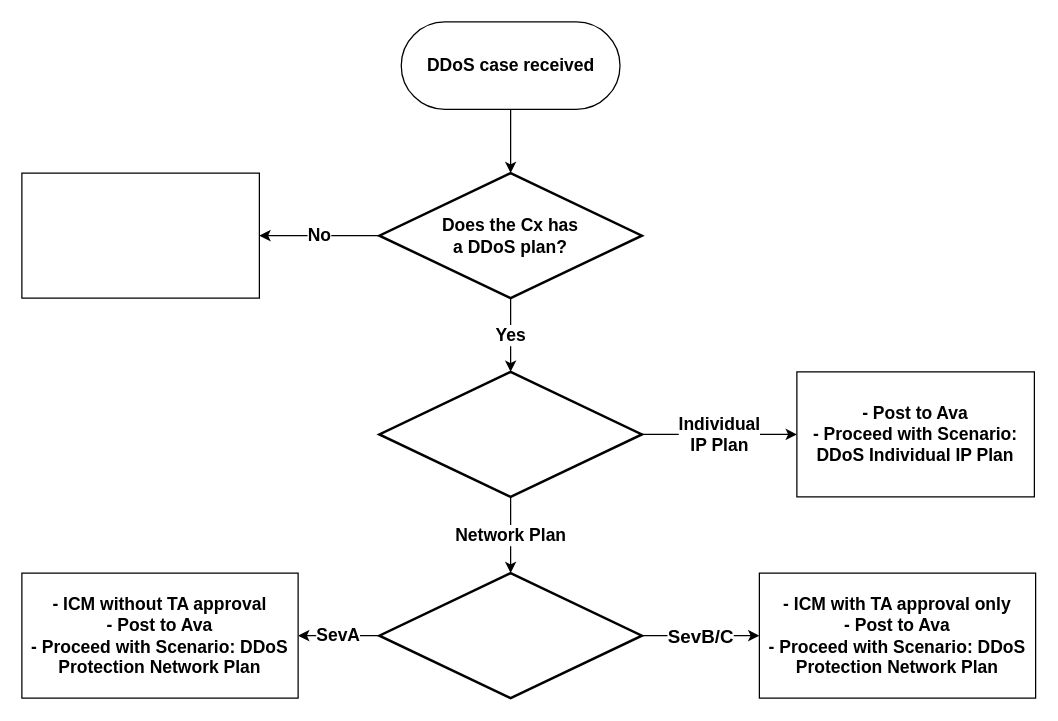
Image size: 1058x721. Some labels were removed from this diagram. Each missing label, with the box of its shape:
- No ICM - Post to Ava - Proceed with the Prerequisites: (21, 172, 259, 298)
What is the case severity?: (378, 571, 642, 699)
Which DDoS plan?: (378, 370, 642, 498)
